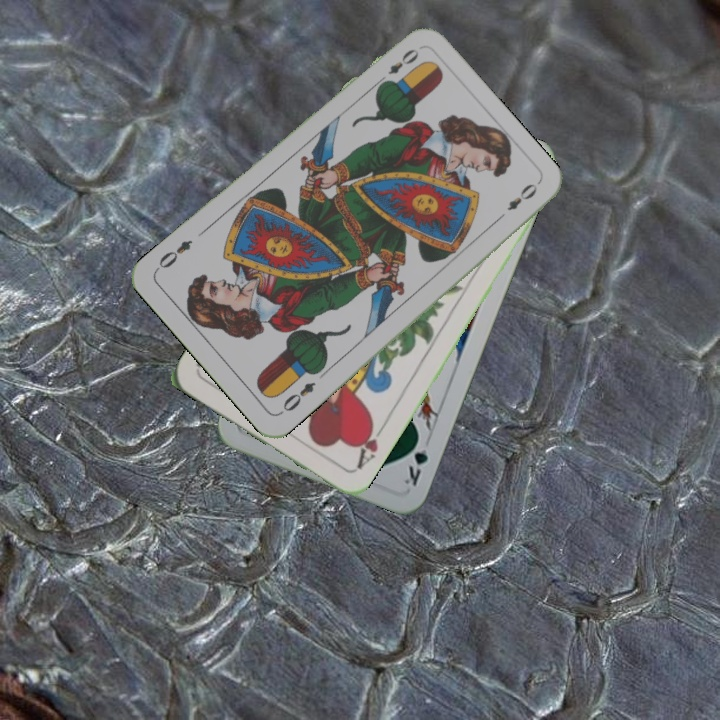EO: (373, 44, 422, 88), (276, 377, 318, 417)
GK: (400, 431, 431, 489)
HA: (352, 416, 389, 473)
